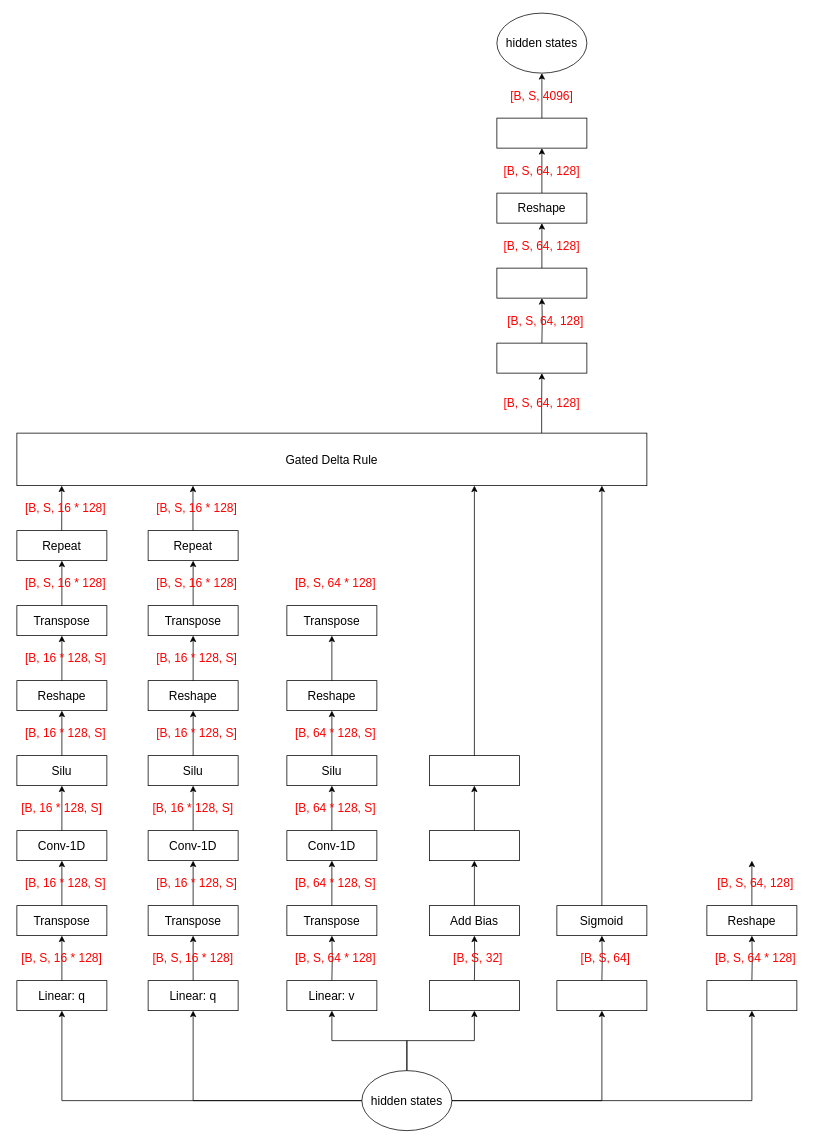
This 817x1144 diagram has some shape labels left out. Here are the shapes that lost their labels. From the top down, the centre of each, then its label:
point (541, 132): Linear o
point (541, 282): Gate-Mul
point (541, 357): RMSNorm
point (474, 770): Mul: g
point (474, 845): SoftPlus
point (474, 995): Linear: a
point (601, 995): Linear: b
point (751, 995): Linear: z
